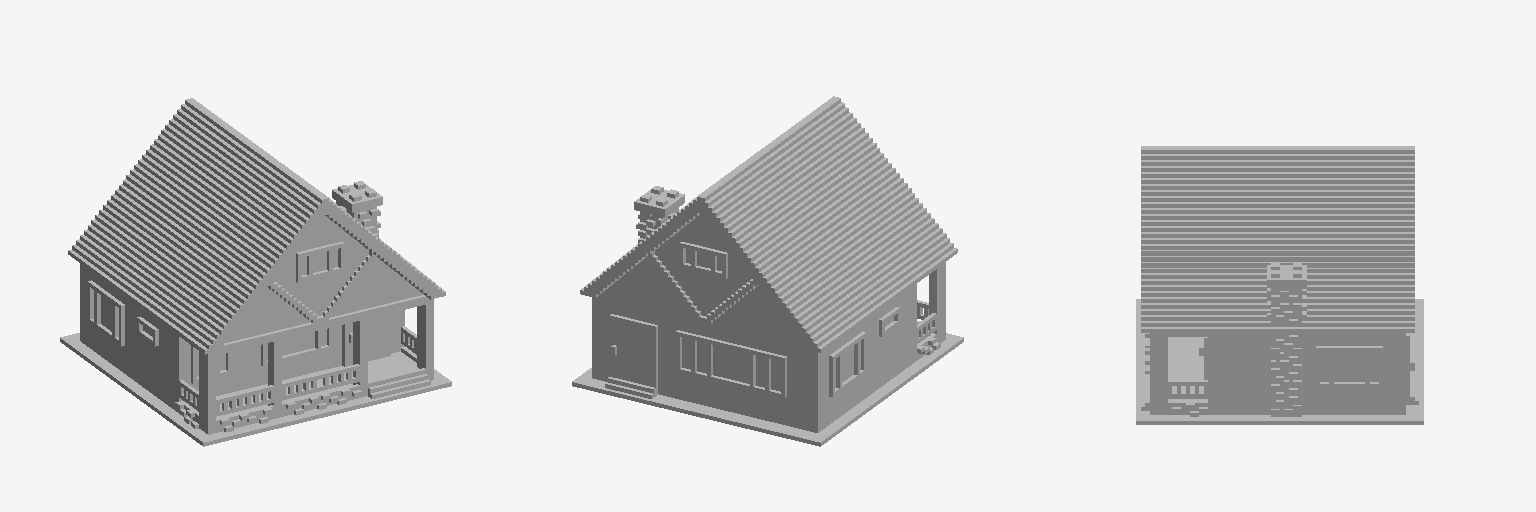
Rendered from obj_house3a.obj.
3 renders of one model, left to right at view 1: azimuth 30°, elevation 25°; view 2: azimuth 150°, elevation 25°; view 3: azimuth 270°, elevation 25°, orthographic.
Parts seen in each view (by area): view 1: object 1; view 2: object 1; view 3: object 1.
Part boxes in pixels (x1,y1,x2,y2): object 1: (60, 98, 451, 446); object 1: (572, 96, 963, 446); object 1: (1136, 146, 1423, 424).
Bounding box in the file's own units: 6.4 × 5.3 × 6.4.